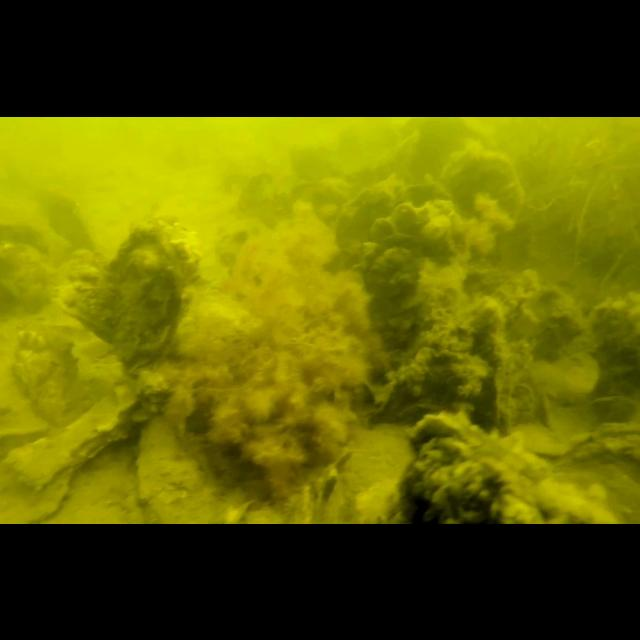Oyster-Closed: (115, 211, 208, 373), (3, 385, 136, 493), (429, 455, 609, 523), (135, 411, 227, 523), (439, 140, 525, 256), (332, 178, 454, 254), (8, 329, 82, 431), (52, 248, 112, 346), (366, 200, 456, 264), (31, 186, 98, 250)
Oyster-Open: (396, 408, 550, 524), (360, 230, 424, 350), (0, 218, 58, 316), (212, 226, 264, 298), (584, 392, 640, 436)
